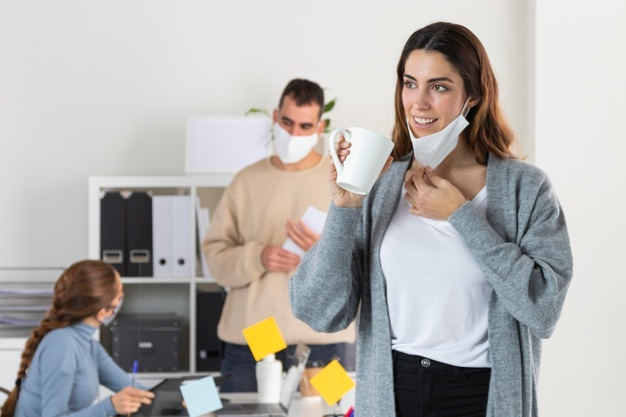with_incorrect_mask: (400, 54, 482, 168)
with_mask: (276, 102, 318, 164)
